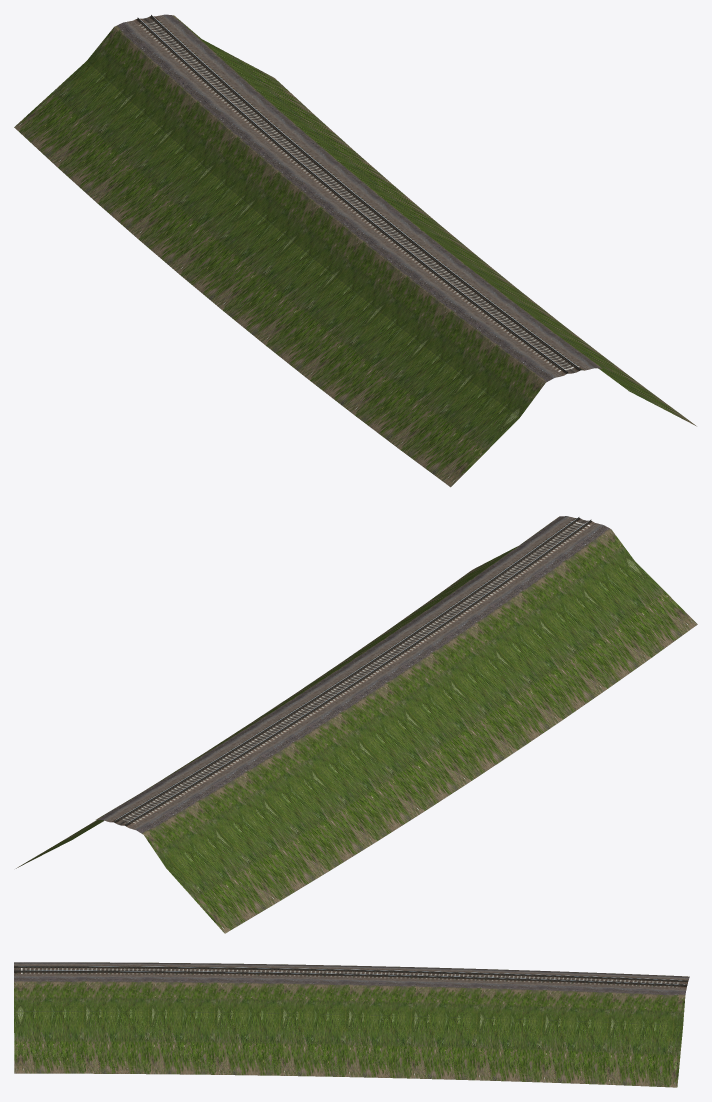
Rendered from tracks_1track1000r.gltf.
The picture shows the model from 3 angles, top to bottom: view 1: azimuth 30°, elevation 25°; view 2: azimuth 150°, elevation 25°; view 3: azimuth 270°, elevation 25°; orthographic projection. The views are drawn at different scales.
Visible parts, largest first — view 1: tracks_1track1000r; view 2: tracks_1track1000r; view 3: tracks_1track1000r.
Boxes of the visible parts, x1=… form: tracks_1track1000r: x1=14, y1=14, x2=696, y2=487; tracks_1track1000r: x1=16, y1=516, x2=697, y2=933; tracks_1track1000r: x1=14, y1=962, x2=689, y2=1087.
Size of the model in its own units: 35.9 by 10.36 by 103.
1 material, 1 textured.
